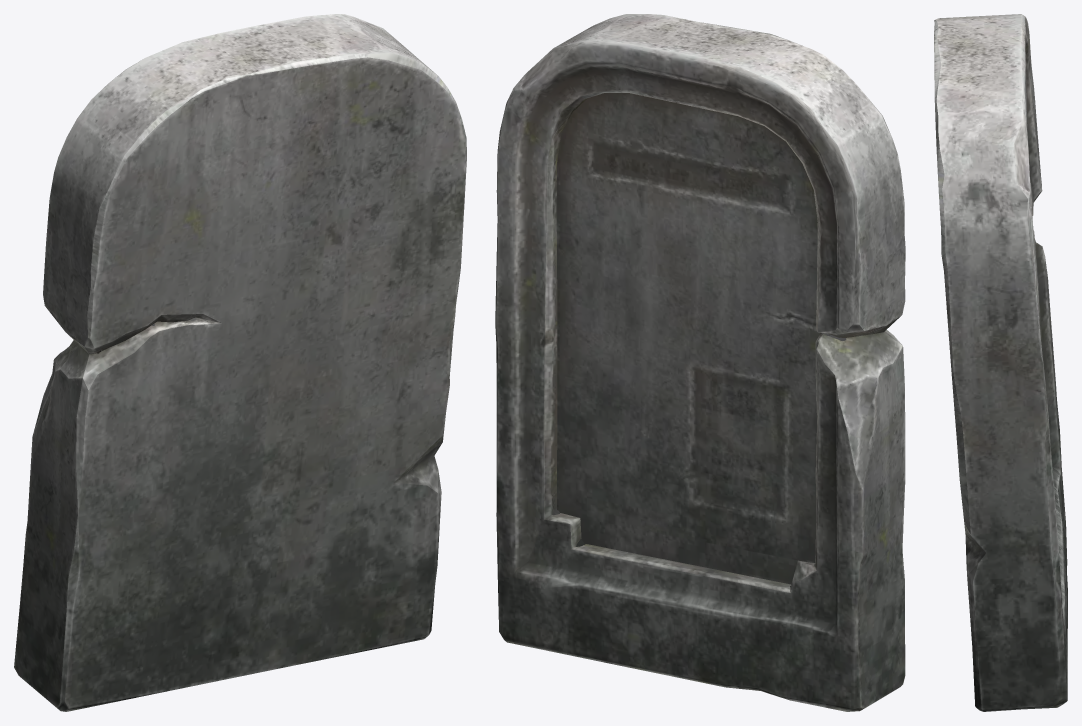
3 views of the same model, side by side, from view 1: azimuth 30°, elevation 25°; view 2: azimuth 150°, elevation 25°; view 3: azimuth 270°, elevation 25° (orthographic). The views are drawn at different scales.
Visible parts, largest first — view 1: SM_Human_Gravestone_Stone_01_LOD0; view 2: SM_Human_Gravestone_Stone_01_LOD0; view 3: SM_Human_Gravestone_Stone_01_LOD0.
Boxes of the visible parts, bbox=[...] form: SM_Human_Gravestone_Stone_01_LOD0: bbox=[14, 14, 466, 711]; SM_Human_Gravestone_Stone_01_LOD0: bbox=[495, 14, 905, 711]; SM_Human_Gravestone_Stone_01_LOD0: bbox=[934, 14, 1067, 711].
Size of the model in its own units: 1.1 by 1.71 by 0.3544.
1 material, 1 textured.
